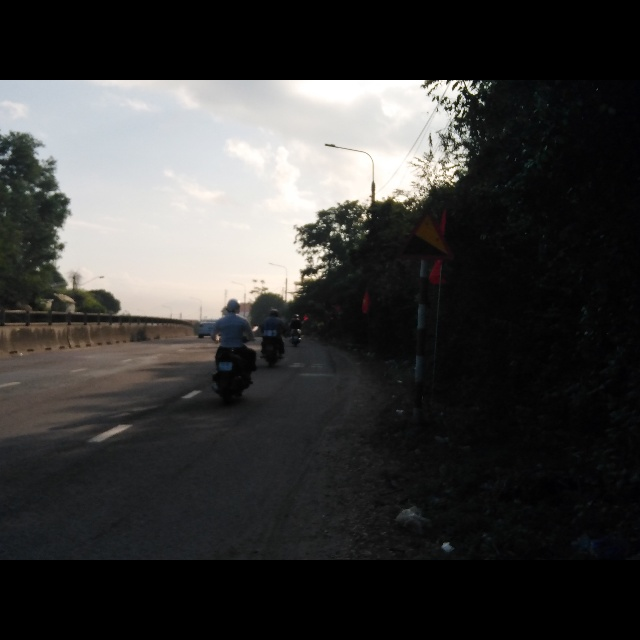Dốc lên nguy hiểm: (398, 210, 455, 263)
